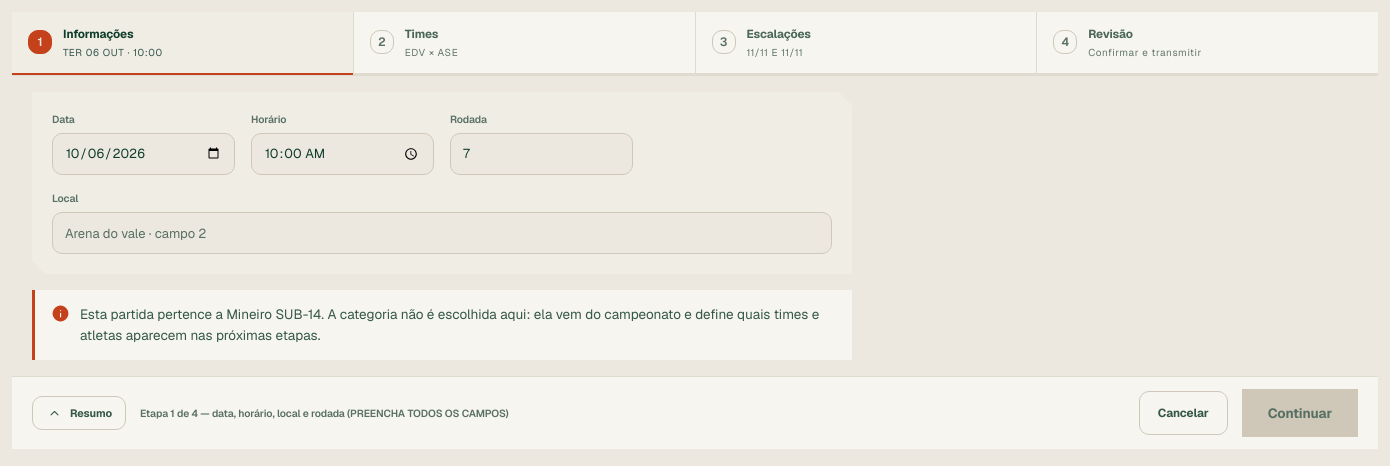
Test: NewMatchWizard › moves to the teams step once the information is complete
Type "Arena do Vale" into the field labelled "Local".
click(442, 233); type("Arena do Vale")  # box [52,212,832,254]
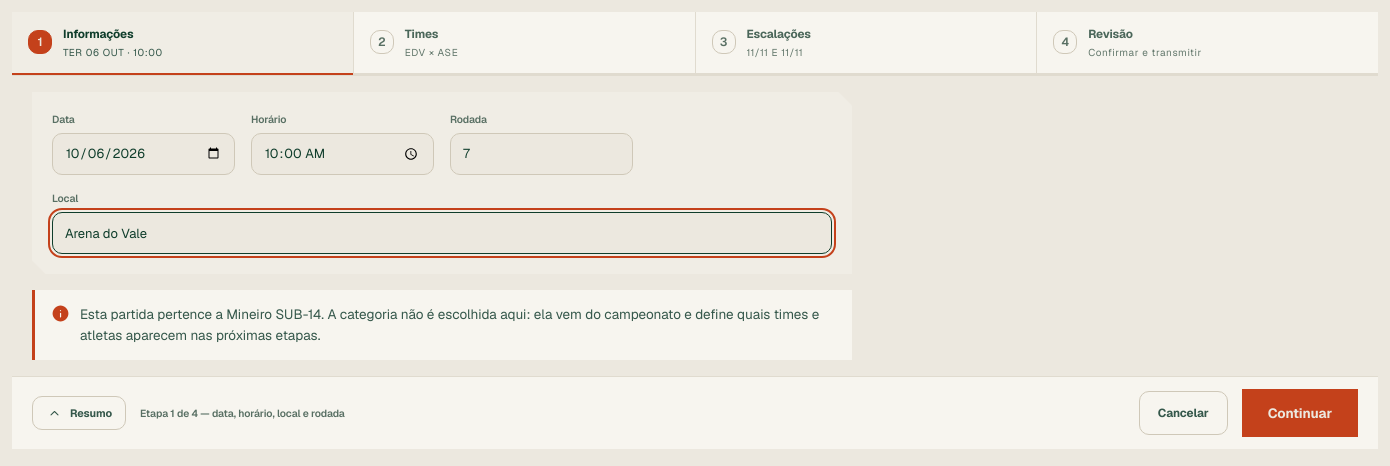
Click the button "Continuar".
click(1300, 413)  # box [1242,389,1358,437]
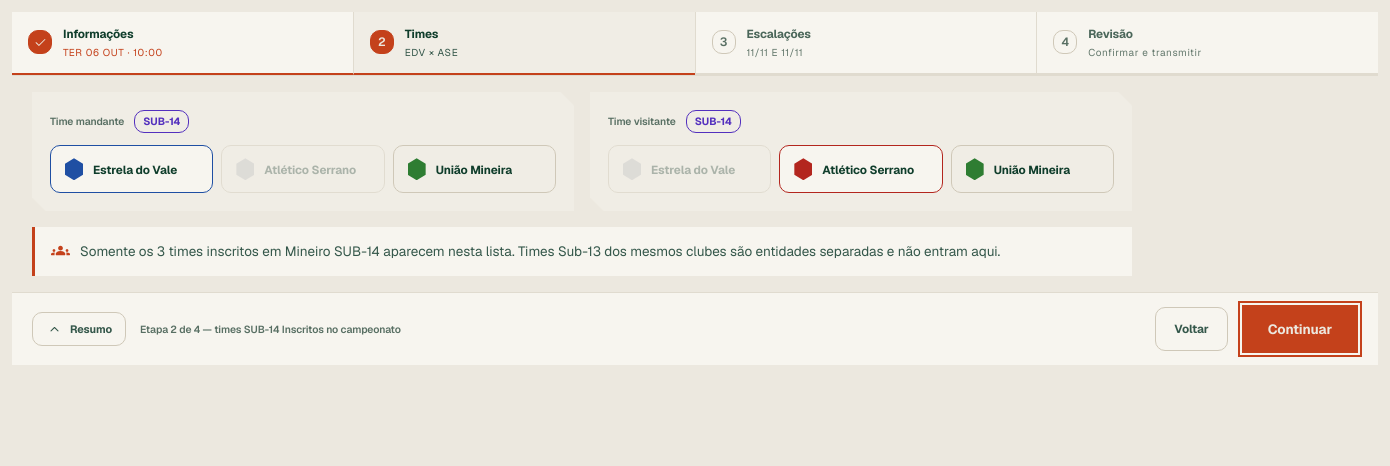
Check: the element "Time mandante" is shown, box [32,92,574,211]
Check: the text "Times Sub-13 dos mesmos clubes" is shown, box [80,242,1000,260]
